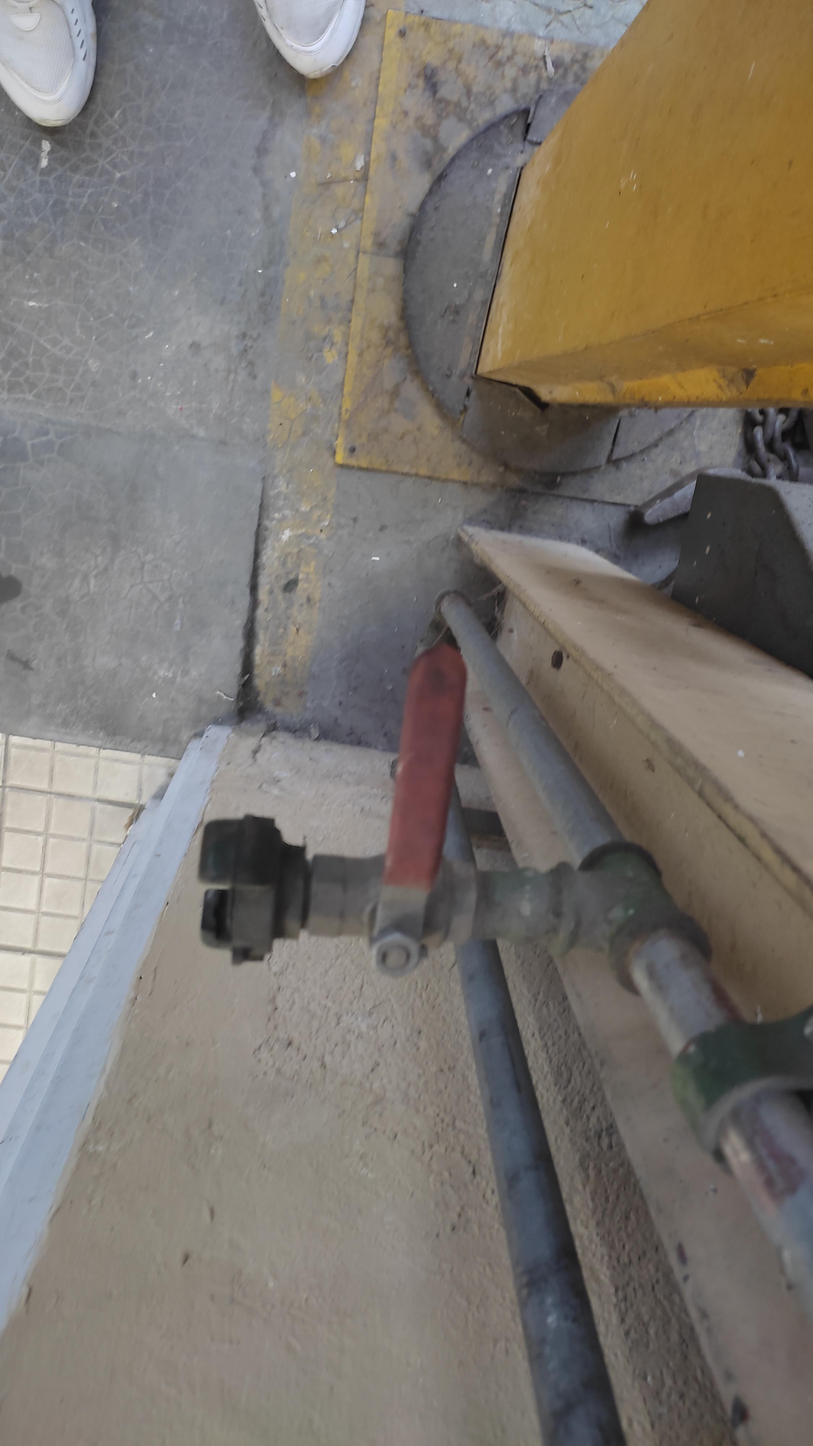closed valve: (305, 637, 481, 978)
